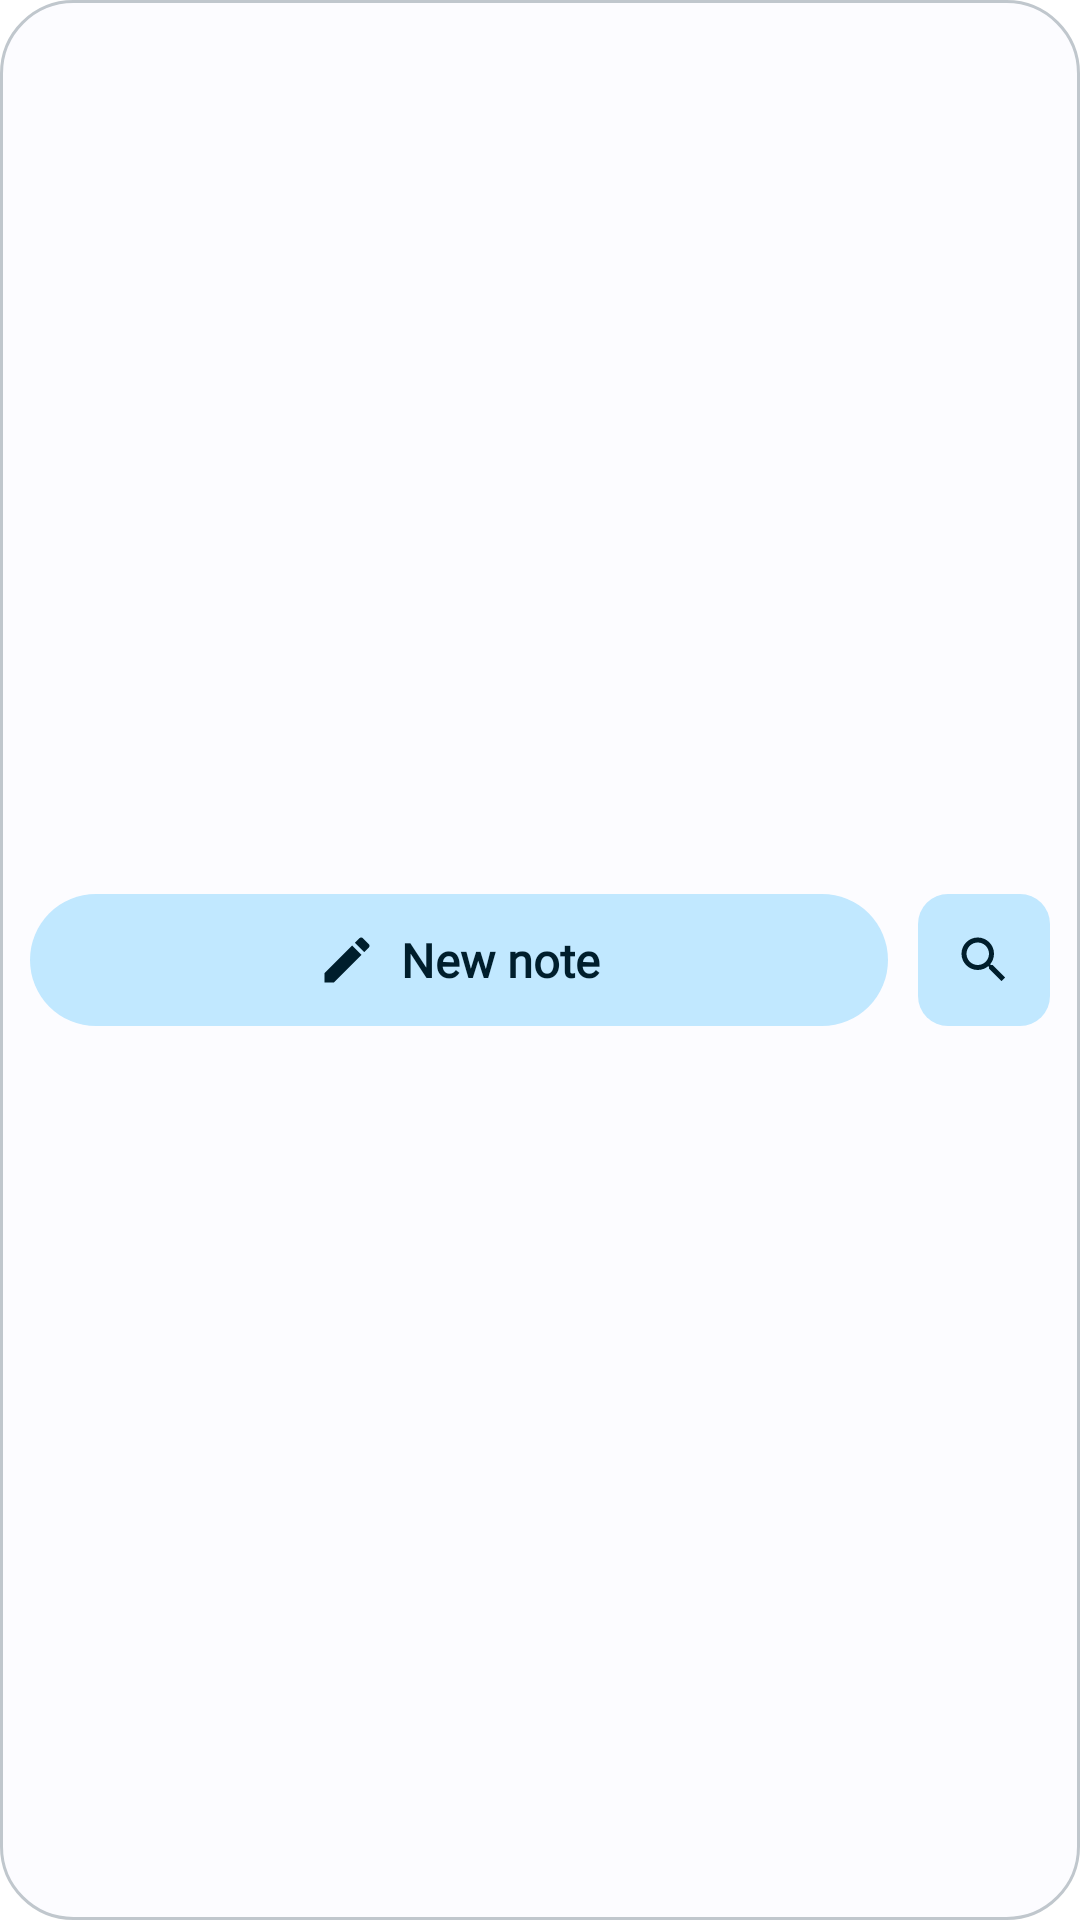

Icon bounding boxes for this 1080w x 1920h phone screenshot, format (x1, y1, x2, y2):
Search: (961, 937, 1005, 981)
